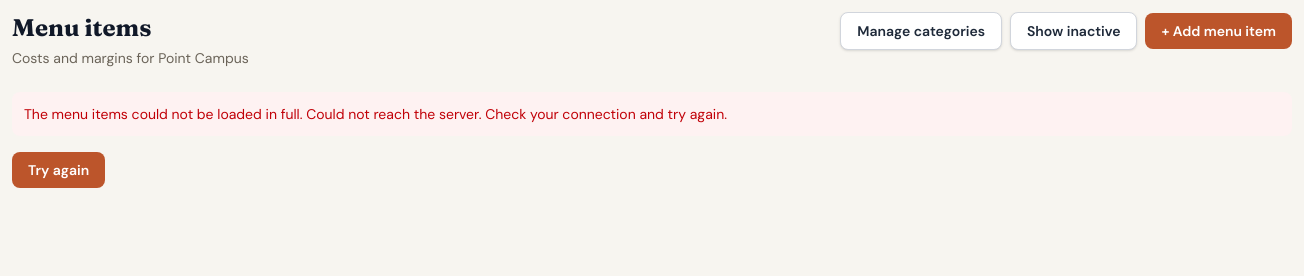
Test: the Allergens column › reads again on Try again, and shows the menu once it arrives
This screenshot has width=1304, height=276.
Check: the text "could not be loaded in full" is shown, box [24, 105, 727, 123]
Step 1. Click the button "Try again" → (59, 170), box [12, 152, 105, 188]
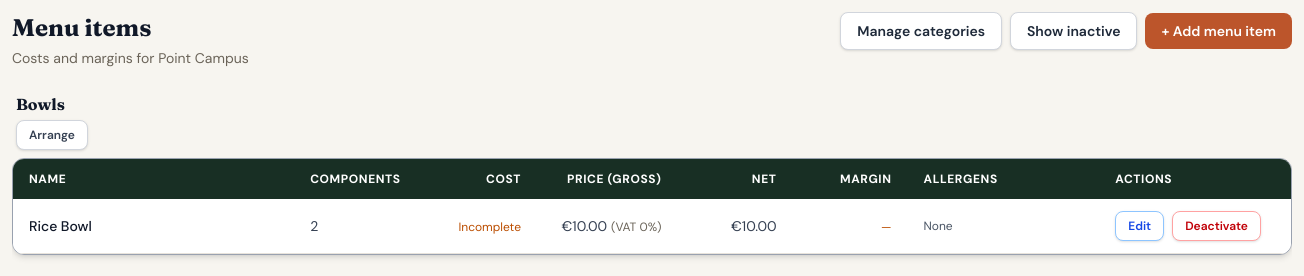
Check: the text "None" is shown 2 times
